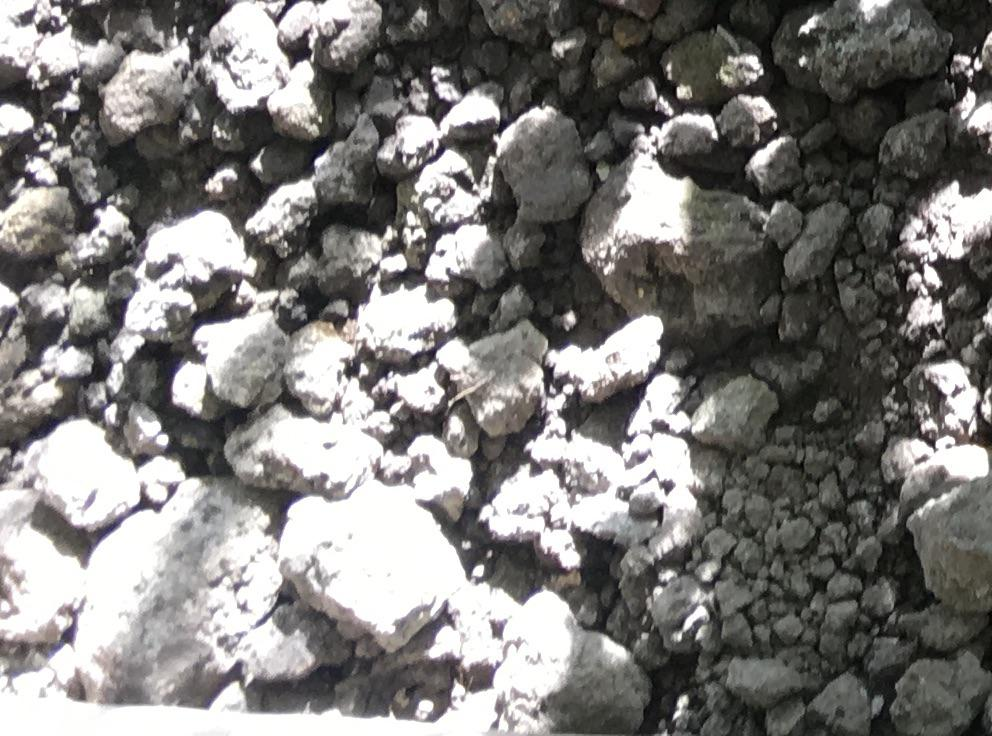block: (78, 470, 337, 704), (578, 149, 783, 357), (272, 486, 469, 652)
